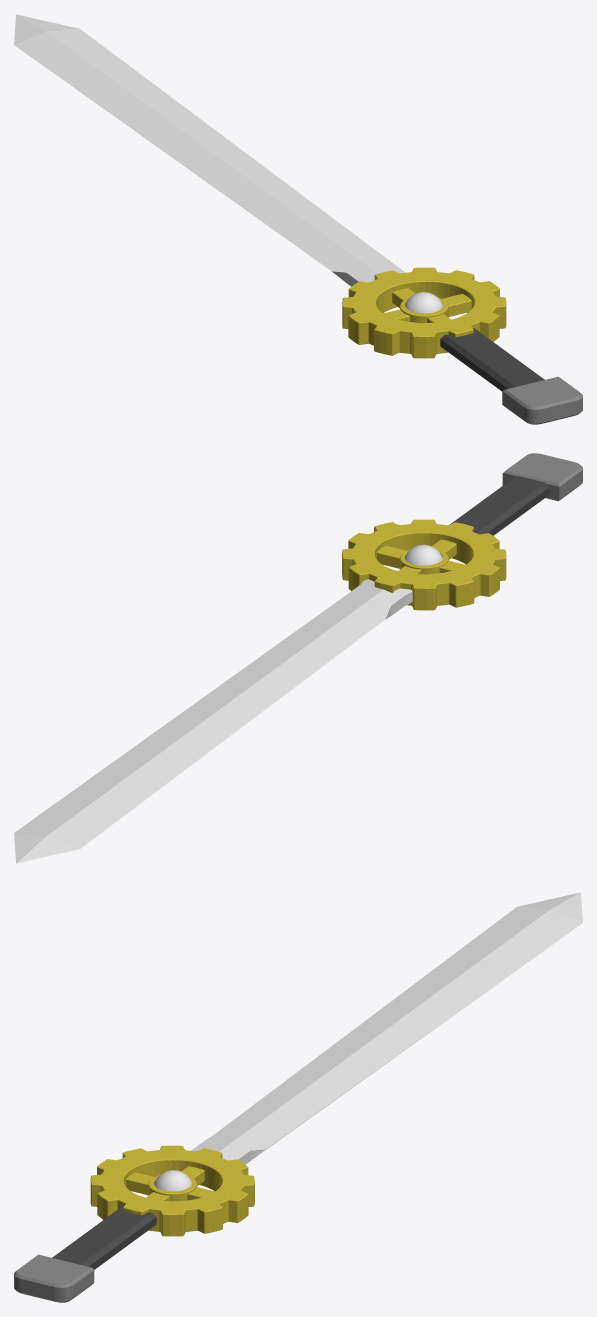
The model's file is GearSword.fbx.
The picture shows the model from 3 angles, top to bottom: view 1: azimuth 30°, elevation 25°; view 2: azimuth 150°, elevation 25°; view 3: azimuth 330°, elevation 25°; orthographic projection.
Parts seen in each view (by area): view 1: blade, Gear, Grip, pommel, Ruby; view 2: blade, Gear, Grip, pommel, Ruby; view 3: blade, Gear, Grip, pommel, Ruby.
Part boxes in pixels (x1,y1,x2,y2): blade: [14, 14, 405, 286]; Gear: [342, 267, 506, 358]; Grip: [440, 328, 544, 391]; pommel: [502, 376, 582, 424]; Ruby: [405, 292, 442, 313]; blade: [14, 579, 412, 863]; Gear: [342, 519, 506, 610]; Grip: [450, 475, 549, 535]; pommel: [502, 453, 582, 501]; Ruby: [404, 544, 442, 565]; blade: [191, 892, 582, 1164]; Gear: [90, 1145, 254, 1236]; Grip: [52, 1206, 156, 1269]; pommel: [14, 1254, 94, 1302]; Ruby: [154, 1170, 191, 1191].
Bounding box in the file's own units: 0.3 × 0.075 × 1.98.
